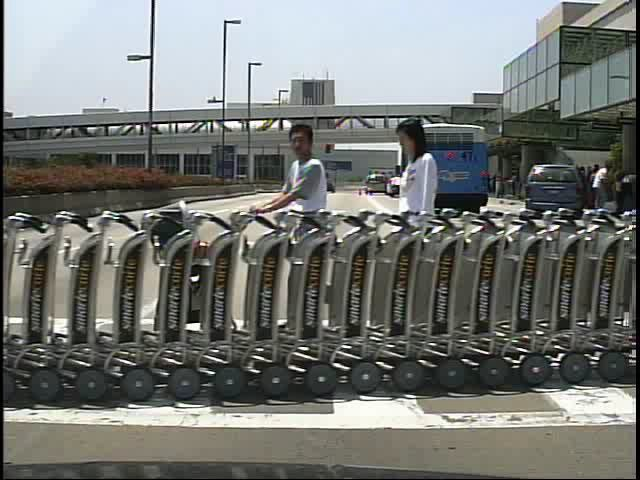person: (257, 120, 350, 357), (393, 116, 458, 339), (593, 163, 613, 213), (585, 163, 602, 214)
